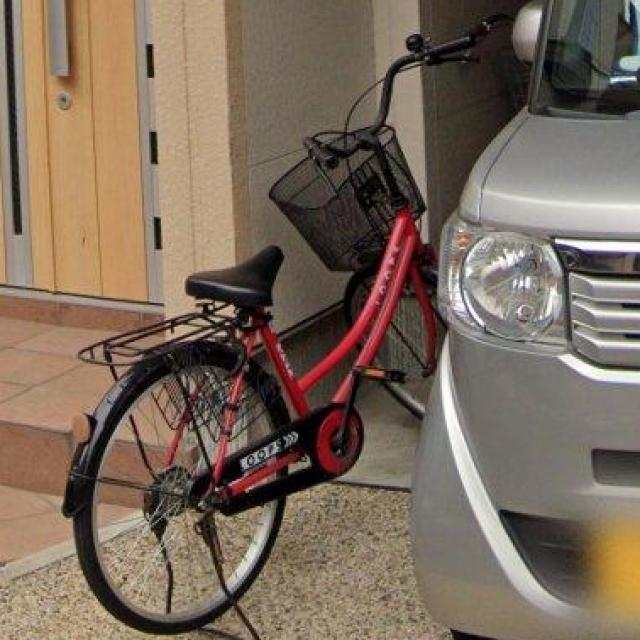bicycle: (64, 18, 502, 640)
